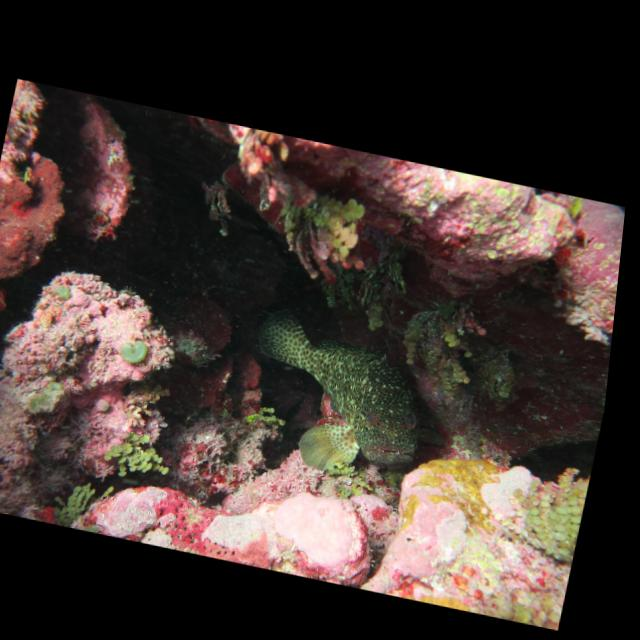Groupers: (228, 302, 465, 498)
